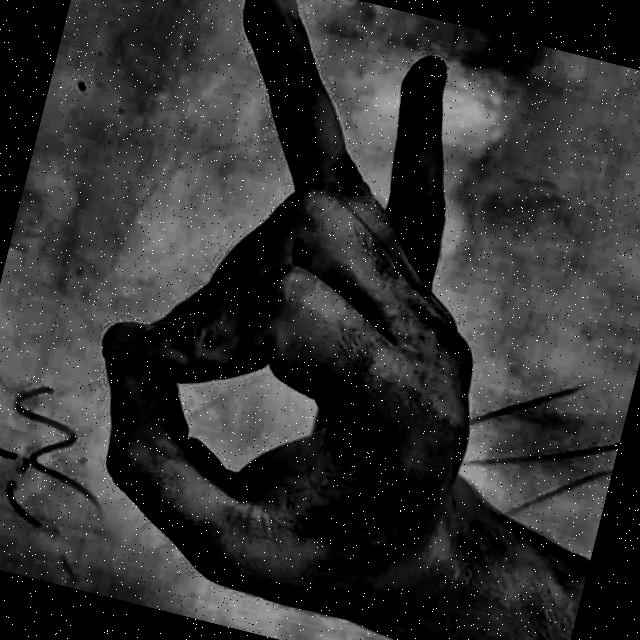Na: (0, 0, 592, 640)
